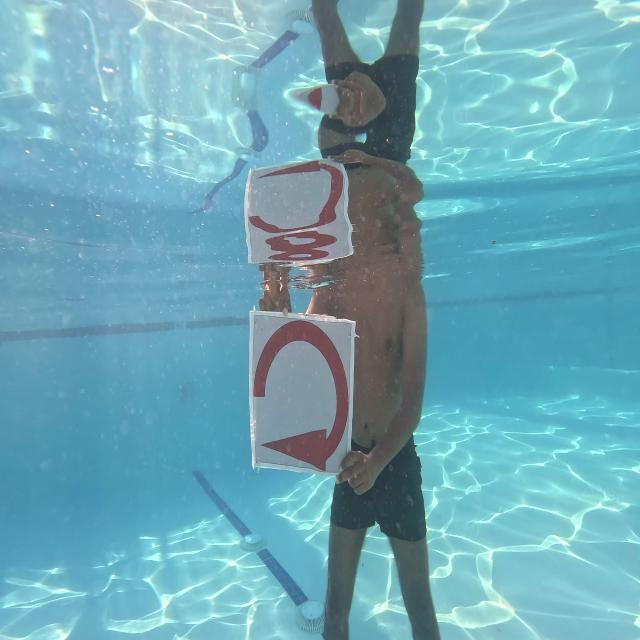red_side: (246, 303, 360, 471)
